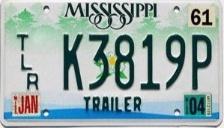1: (139, 32, 162, 91)
3: (87, 33, 112, 90)
8: (112, 33, 137, 90)
9: (162, 33, 189, 90)
K: (61, 33, 85, 92)
P: (189, 32, 213, 91)
